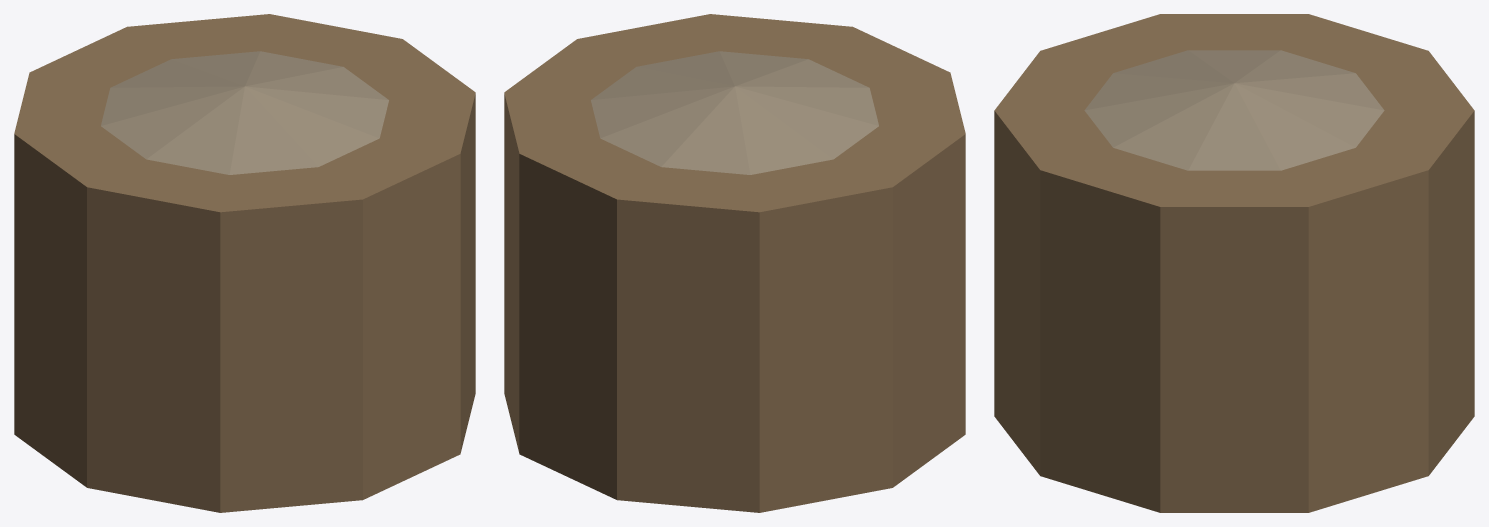
Rendered from Stump.fbx.
The picture shows the model from 3 angles, left to right: view 1: azimuth 30°, elevation 25°; view 2: azimuth 150°, elevation 25°; view 3: azimuth 270°, elevation 25°; orthographic projection.
Parts seen in each view (by area): view 1: Stump; view 2: Stump; view 3: Stump.
Part boxes in pixels (left/top/right/bottom): Stump: left=14, top=14, right=475, bottom=512; Stump: left=504, top=14, right=965, bottom=512; Stump: left=994, top=14, right=1474, bottom=512.
Size of the model in its own units: 0.6087 by 0.49 by 0.64.
